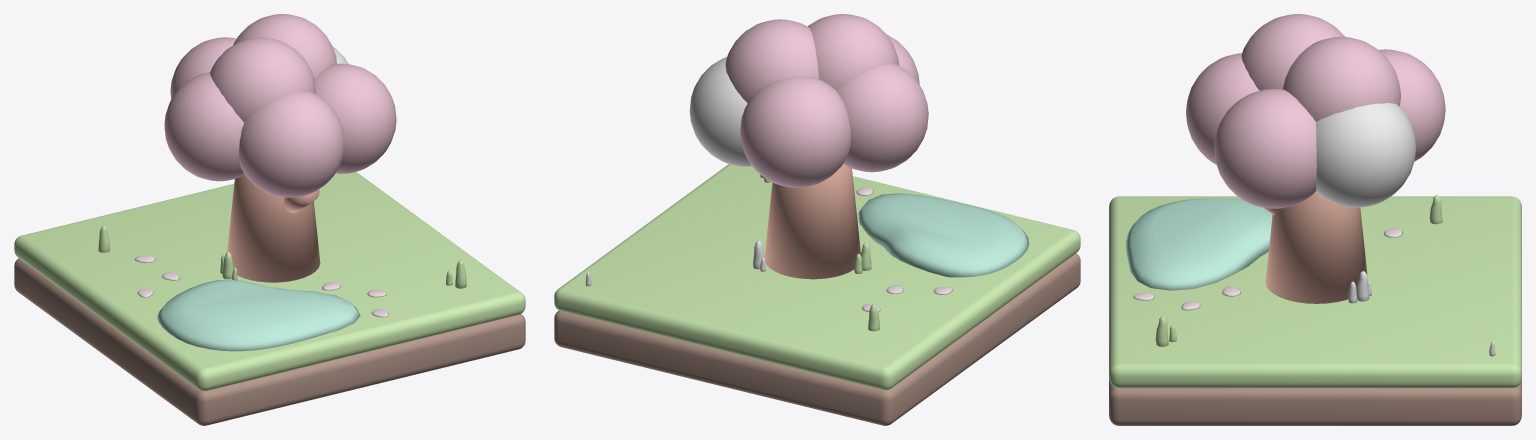
Rendered from ermg.fbx.
The picture shows the model from 3 angles, left to right: view 1: azimuth 30°, elevation 25°; view 2: azimuth 150°, elevation 25°; view 3: azimuth 270°, elevation 25°; orthographic projection. The views are drawn at different scales.
Visible parts, largest first — view 1: Cube.001, Cube, Circle.010, Sphere.001, Cylinder, Sphere.003, Sphere, Sphere.005, Sphere.006, Sphere.002; view 2: Cube.001, Cube, Circle.010, Sphere.002, Cylinder, Sphere.003, Sphere.006, Sphere.005, Sphere.004, Sphere.001; view 3: Cube.001, Cube, Circle.010, Sphere, Cylinder, Sphere.004, Sphere.006, Sphere.005, Sphere.001, Sphere.002.
Part boxes in pixels (x1,y1,x2,y2): Cube.001: [14, 172, 525, 391]; Cube: [14, 258, 525, 425]; Circle.010: [157, 279, 360, 351]; Sphere.001: [239, 91, 344, 197]; Cylinder: [227, 175, 320, 282]; Sphere.003: [164, 72, 244, 181]; Sphere: [314, 63, 396, 173]; Sphere.005: [210, 37, 315, 122]; Sphere.006: [233, 14, 336, 78]; Sphere.002: [170, 37, 236, 98]; Cube.001: [554, 164, 1080, 390]; Cube: [554, 253, 1080, 425]; Circle.010: [858, 193, 1029, 277]; Sphere.002: [740, 76, 850, 187]; Cylinder: [764, 164, 860, 279]; Sphere.003: [837, 63, 928, 172]; Sphere.006: [725, 19, 818, 103]; Sphere.005: [808, 14, 899, 90]; Sphere.004: [689, 57, 752, 166]; Sphere.001: [886, 34, 919, 84]; Cube.001: [1109, 196, 1521, 388]; Cube: [1109, 379, 1521, 425]; Circle.010: [1126, 198, 1272, 290]; Sphere: [1214, 89, 1316, 208]; Cylinder: [1265, 192, 1367, 303]; Sphere.004: [1316, 103, 1416, 207]; Sphere.006: [1282, 36, 1400, 121]; Sphere.005: [1241, 14, 1344, 90]; Sphere.001: [1186, 53, 1259, 164]; Sphere.002: [1379, 49, 1445, 161].
Size of what is drawn, in the model's own units: 200 by 168 by 200.
